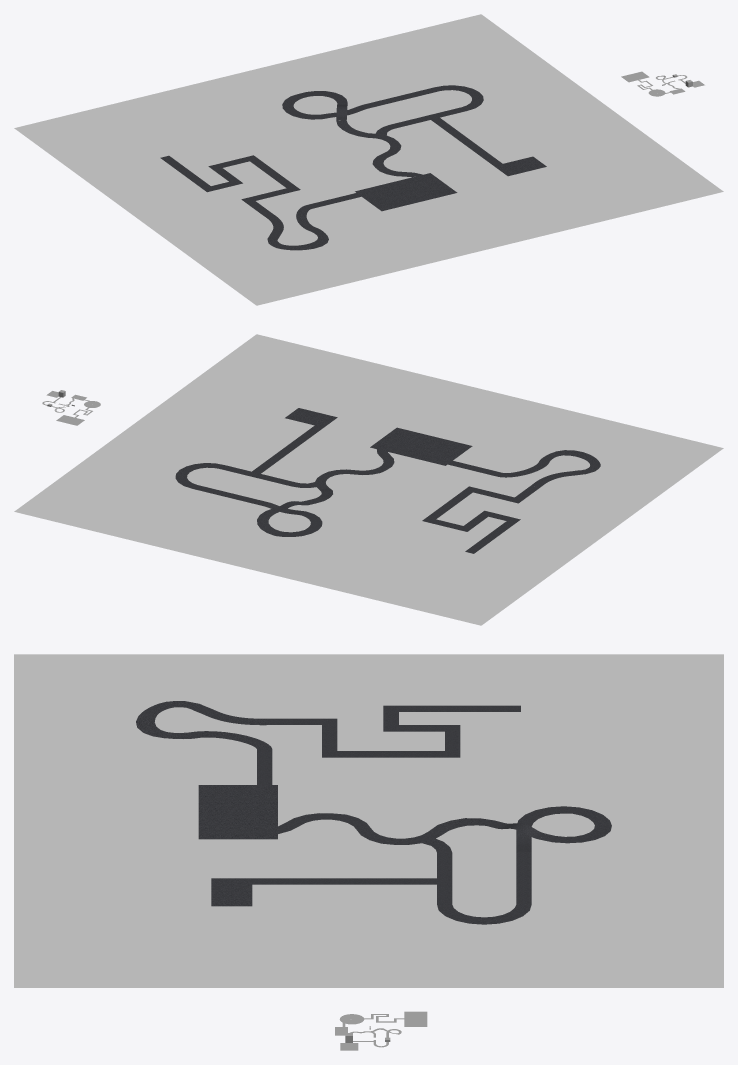
File: Road and Grass.fbx
3 renders of one model, top to bottom at view 1: azimuth 30°, elevation 25°; view 2: azimuth 150°, elevation 25°; view 3: azimuth 270°, elevation 25°, orthographic. The views are drawn at different scales.
Visible parts, largest first — view 1: pPlane54; view 2: pPlane54; view 3: pPlane54.
Part boxes in pixels (<box>): pPlane54: <box>14,14,723,305</box>; pPlane54: <box>14,334,723,625</box>; pPlane54: <box>14,654,723,987</box>.
Bounding box in the file's own units: 369 × 5.13 × 277.
